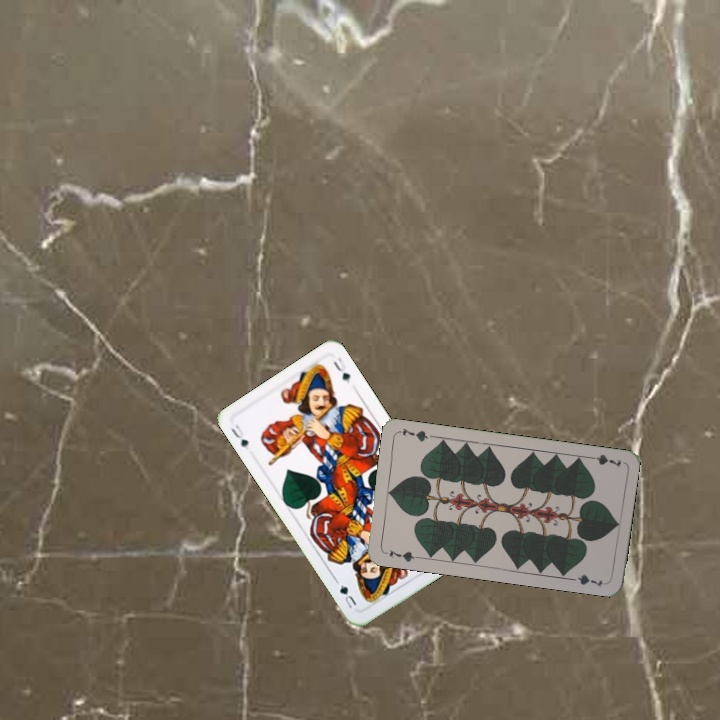G7: (583, 450, 624, 470), (385, 546, 421, 564)
GU: (227, 421, 251, 451)
